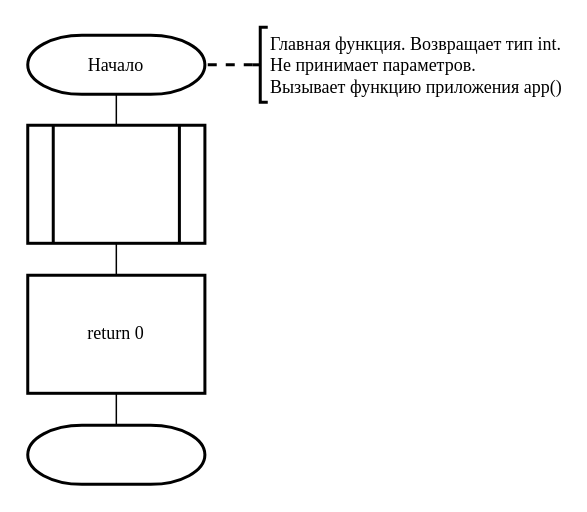
This 587x512 diagram has some shape labels left out. The shapes that lost their labels are listed below. From the top down, each one's centre as x and y in pixels, then its label:
the point at 116,183: app()
the point at 116,454: Конец
